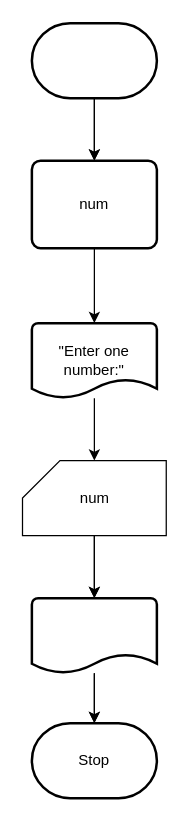
This 188x820 diagram has some shape labels left out. Here are the shapes that lost their labels. From the top down, the centre of each, then its label:
(94,60): Start
(94,635): num ** 2
